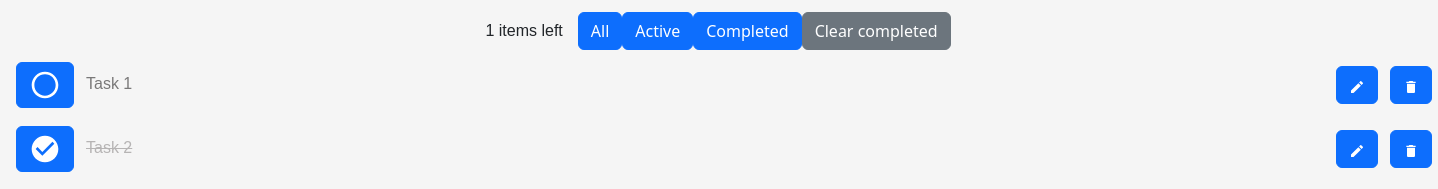
Test case: TodoList - Фильтрация задач › отображает только невыполненные задачи при нажатии кнопки 'Active'
This screenshot has width=1438, height=189.
What coordinates should you click on to do the following:
click the button "Active"
I would click on:
 (658, 31)
Its box is [622,12,693,50].
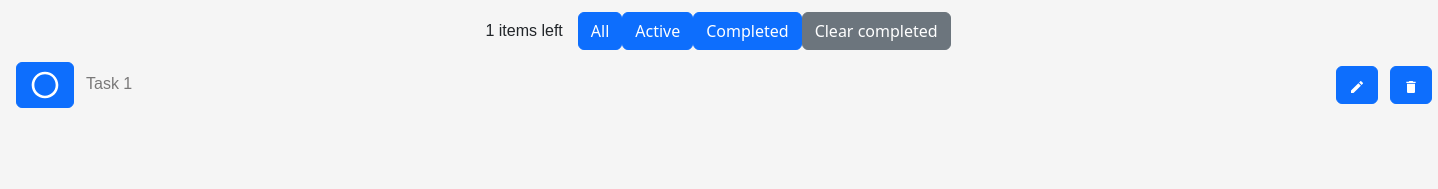
expect the text "Task 1" is shown: met, box [86,75,132,92]
expect the text "Task 2" is gone: met
